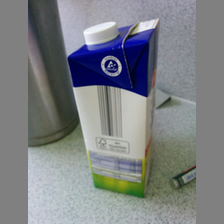milk: (62, 19, 167, 201)
